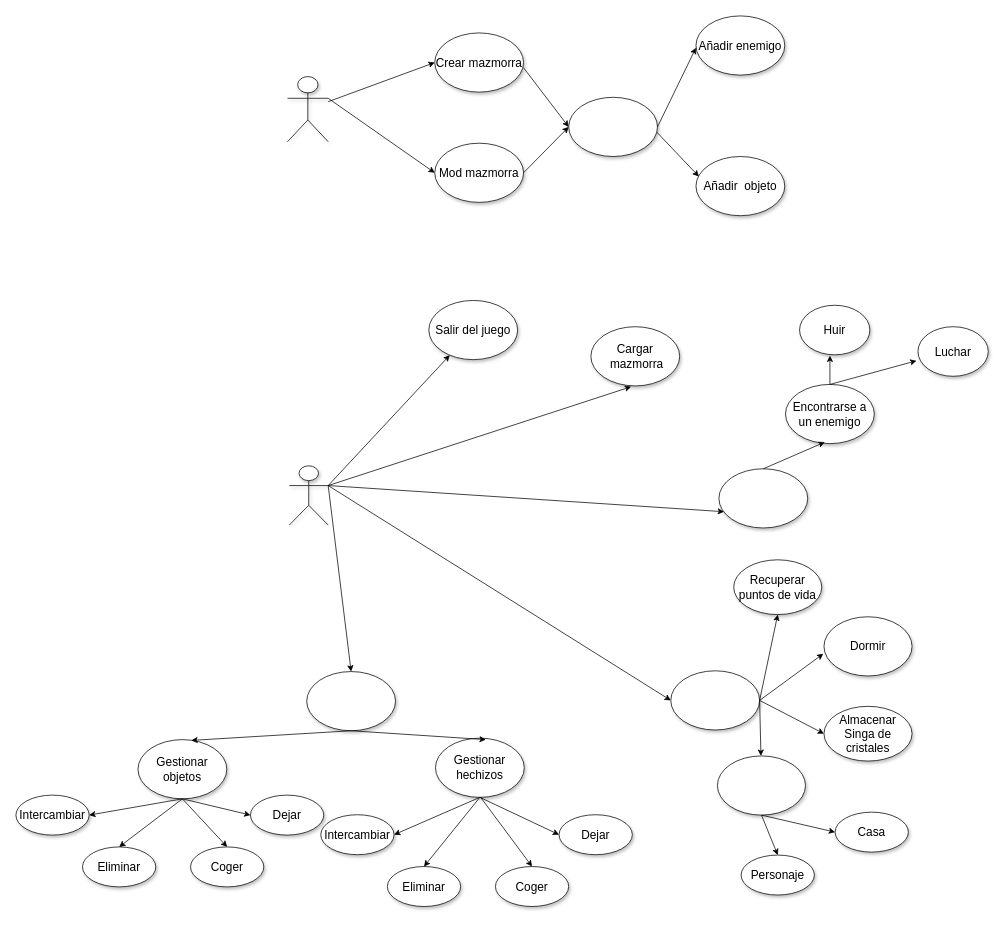
This 1006x925 diagram has some shape labels left out. The centre of each missing label's shape, as x and y in pixels:
Añadir/editar celda: the point at 613,128
Cambiar de celda: the point at 763,499
Editor: the point at 308,110
En casa: the point at 715,701
Gestionar inventario: the point at 351,702
Jugador: the point at 309,496
Mejorar características: the point at 762,786
